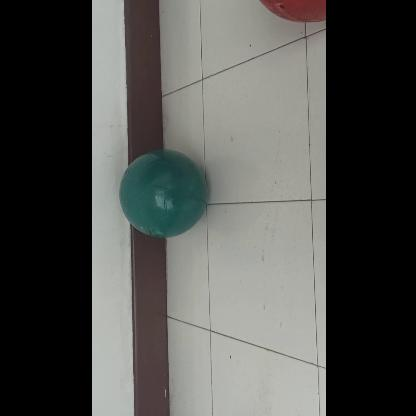green_ball: (118, 152, 204, 238)
